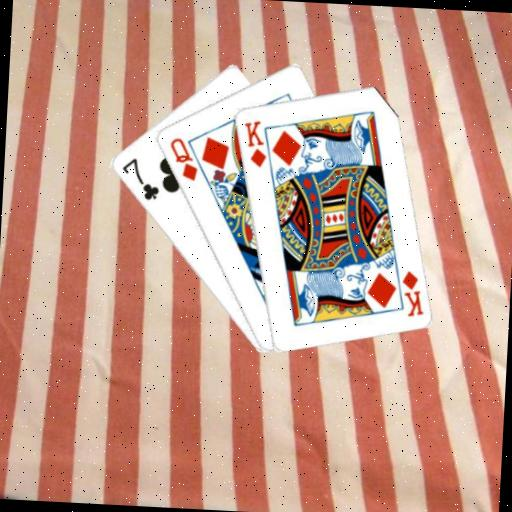7C: (117, 155, 163, 203)
KD: (239, 117, 270, 170), (397, 267, 427, 318)
QD: (165, 134, 201, 183)
